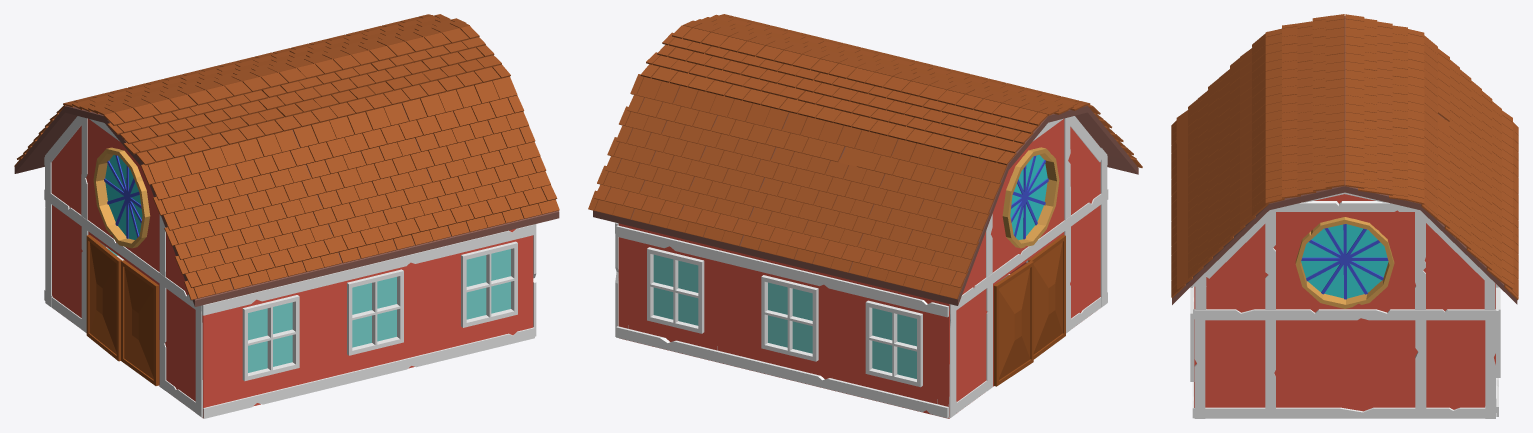
Rendered from stable.fbx.
3 renders of one model, left to right at view 1: azimuth 30°, elevation 25°; view 2: azimuth 150°, elevation 25°; view 3: azimuth 270°, elevation 25°, orthographic. The views are drawn at different scales.
Parts seen in each view (by area): view 1: stable, stableleftdoor, stablerightdoor; view 2: stable, stablerightdoor, stableleftdoor; view 3: stable.
Part boxes in pixels (left/top/right/bottom): stable: left=14, top=14, right=559, bottom=418; stableleftdoor: left=121, top=260, right=159, bottom=385; stablerightdoor: left=86, top=235, right=121, bottom=361; stable: left=588, top=14, right=1142, bottom=418; stablerightdoor: left=993, top=261, right=1033, bottom=386; stableleftdoor: left=1028, top=235, right=1065, bottom=359; stable: left=1171, top=14, right=1518, bottom=418.
Bounding box in the file's own units: 1428 × 920 × 1204.
